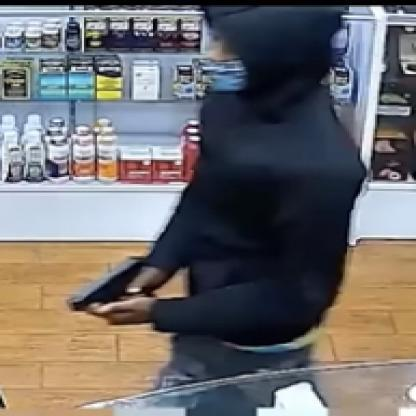criminal: (68, 5, 416, 389)
weapon: (68, 255, 157, 314)
